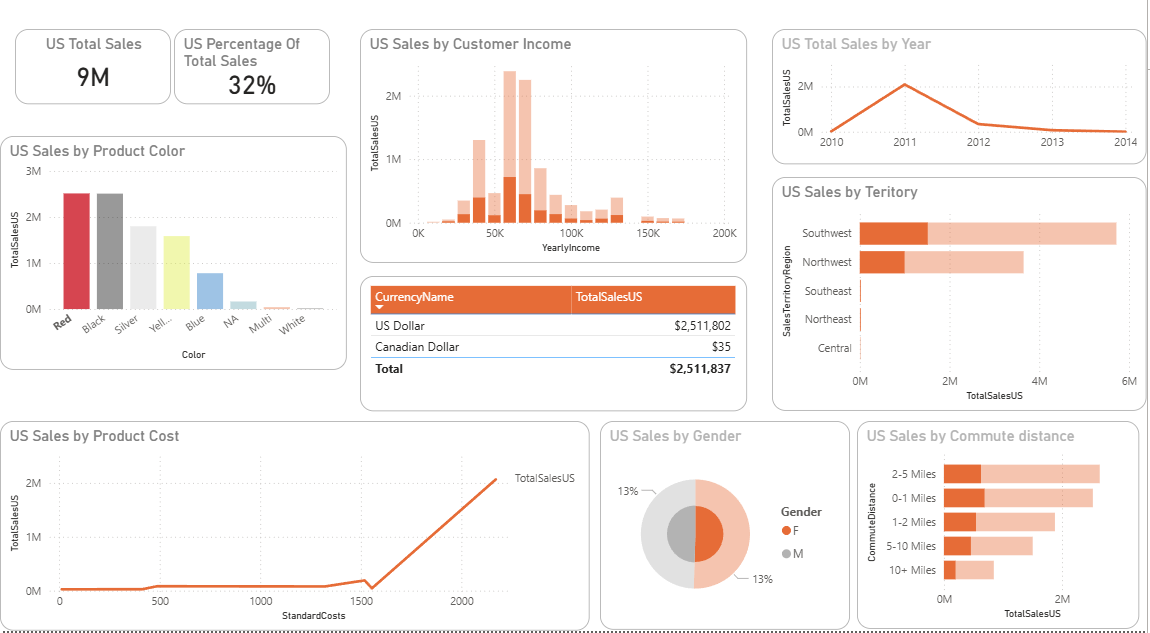

The dashboard page shown, as its layout file describes it:
{"tool":"powerbi","page":{"name":"US Sales","canvas":[1280,720],"ordinal":0},"visuals":[{"type":"card","title":"US Total Sales","fields":{"Values":["#Measures.TotalSalesUS"]},"box":[16.5,47.7,174.1,83.6],"z":0},{"type":"card","title":"US Percentage Of Total Sales","fields":{"Values":["#Measures.% TotalSalesUS"]},"box":[194.2,48,174.1,83.7],"z":1000},{"type":"clusteredBarChart","title":"US Sales by Teritory","fields":{"Category":["dim_SalesTeritory.SalesTerritoryRegion"],"Y":["#Measures.TotalSalesUS"]},"box":[861.5,213.1,418.5,261.1],"z":2000},{"type":"clusteredColumnChart","title":"US Sales by Customer Income","fields":{"Y":["#Measures.TotalSalesUS"],"Category":["dim_Customer.YearlyIncome"]},"box":[401.7,48,431.9,261.1],"z":3000},{"type":"clusteredColumnChart","title":"US Sales by Product Color","fields":{"Category":["dim_Product.Color"],"Y":["#Measures.TotalSalesUS"]},"box":[0,167.4,387.2,261.1],"z":4000},{"type":"lineChart","title":"US Sales by Product Cost","fields":{"Y":["#Measures.TotalSalesUS"],"Category":["dim_Product.StandardCosts"]},"box":[0,485.4,658.4,234.4],"z":5000},{"type":"tableEx","fields":{"Values":["dim_Currency.CurrencyName","#Measures.TotalSalesUS"]},"box":[401.7,323.6,431.9,150.7],"z":6000},{"type":"lineChart","title":"US Total Sales  by Year","fields":{"Category":["fact_InternetSales.OrderDate.Variation.Date Hierarchy.Year","fact_InternetSales.OrderDate.Variation.Date Hierarchy.Quarter","fact_InternetSales.OrderDate.Variation.Date Hierarchy.Month","fact_InternetSales.OrderDate.Variation.Date Hierarchy.Day"],"Y":["#Measures.TotalSalesUS"]},"box":[861.5,48,418.5,150.7],"z":7000},{"type":"pieChart","title":"US Sales by Gender","fields":{"Category":["dim_Customer.Gender"],"Y":["#Measures.TotalSalesUS"]},"box":[669.6,485.4,279,233.2],"z":7001},{"type":"clusteredBarChart","title":"US Sales by Commute distance","fields":{"Category":["dim_Customer.CommuteDistance"],"Y":["#Measures.TotalSalesUS"]},"box":[956.4,485.4,314.7,232.1],"z":7002}]}

Visuals, with their boxes in screenshot pixels (x1, y1, x2, y2), scaled from the page's 1280x720 canvas onto the 1150x633 screenshot:
"US Total Sales" card: {"x1": 15, "y1": 42, "x2": 171, "y2": 115}
"US Percentage Of Total Sales" card: {"x1": 174, "y1": 42, "x2": 331, "y2": 116}
"US Sales by Teritory" clusteredBarChart: {"x1": 774, "y1": 187, "x2": 1149, "y2": 417}
"US Sales by Customer Income" clusteredColumnChart: {"x1": 361, "y1": 42, "x2": 749, "y2": 272}
"US Sales by Product Color" clusteredColumnChart: {"x1": 0, "y1": 147, "x2": 348, "y2": 377}
"US Sales by Product Cost" lineChart: {"x1": 0, "y1": 427, "x2": 592, "y2": 632}
tableEx - dim_Currency.CurrencyName x #Measures.TotalSalesUS: {"x1": 361, "y1": 284, "x2": 749, "y2": 417}
"US Total Sales  by Year" lineChart: {"x1": 774, "y1": 42, "x2": 1149, "y2": 175}
"US Sales by Gender" pieChart: {"x1": 602, "y1": 427, "x2": 852, "y2": 632}
"US Sales by Commute distance" clusteredBarChart: {"x1": 859, "y1": 427, "x2": 1142, "y2": 631}
